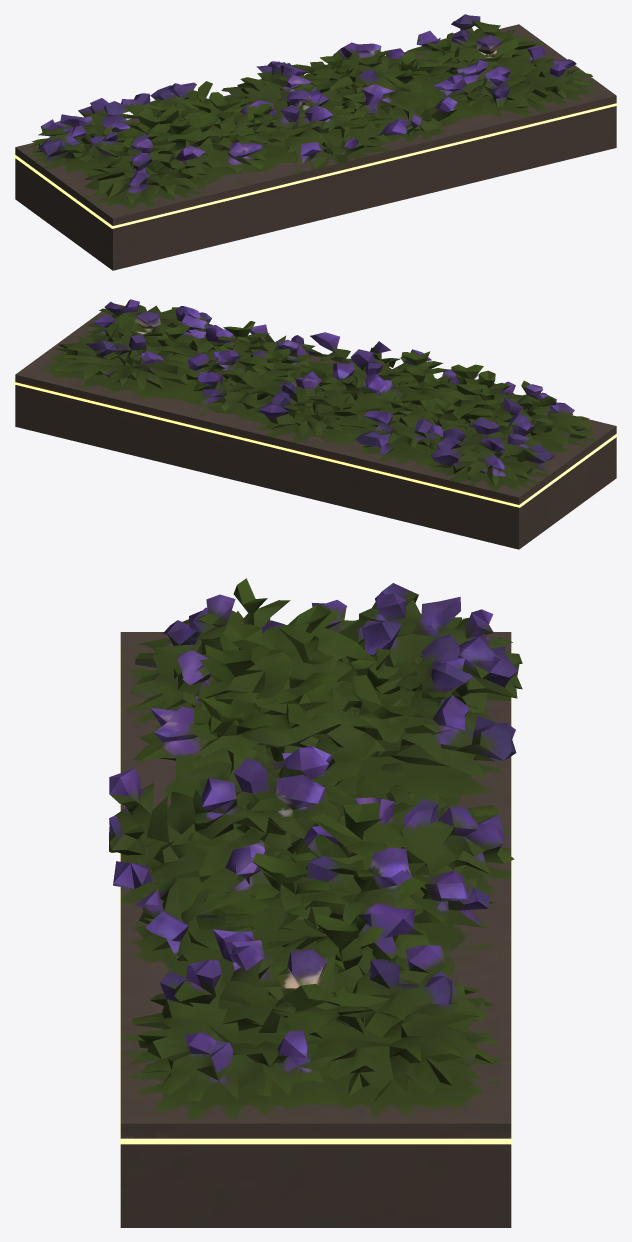
Rendered from flowerbed.glb.
3 renders of one model, top to bottom at view 1: azimuth 30°, elevation 25°; view 2: azimuth 150°, elevation 25°; view 3: azimuth 270°, elevation 25°, orthographic. The views are drawn at different scales.
Visible parts, largest first — view 1: body, lights; view 2: body, lights; view 3: body, lights.
Part boxes in pixels (x1,y1,x2,y2): body: (15,14,616,270); lights: (14,102,617,228); body: (15,299,616,549); lights: (14,381,617,507); body: (109,578,522,1227); lights: (120,645,512,1144).
Bounding box in the file's own units: 3.07 × 0.6004 × 1.08.
Materials: 2 (1 with a texture image).
